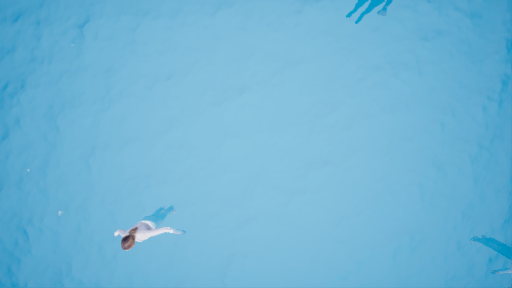person: (103, 202, 194, 250)
